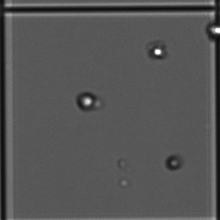Dead Cell: (165, 154, 185, 172)
Living Cell: (78, 92, 96, 110), (152, 45, 166, 58)
